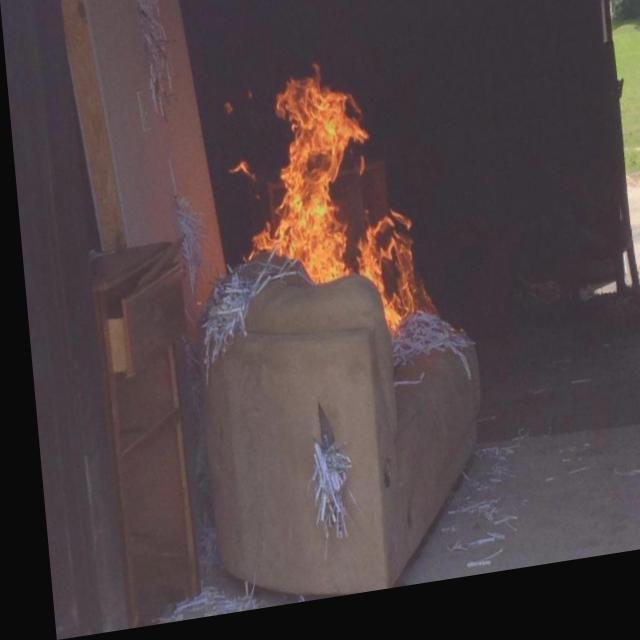Fire: (228, 65, 370, 307), (346, 206, 436, 354)
